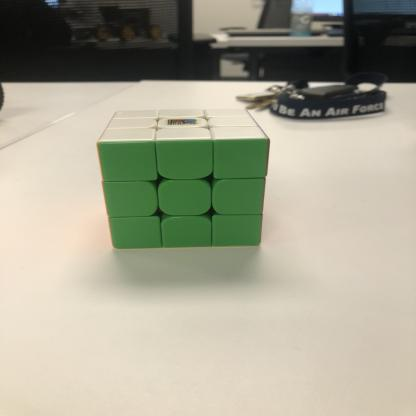SolvedCube: (85, 92, 281, 269)
